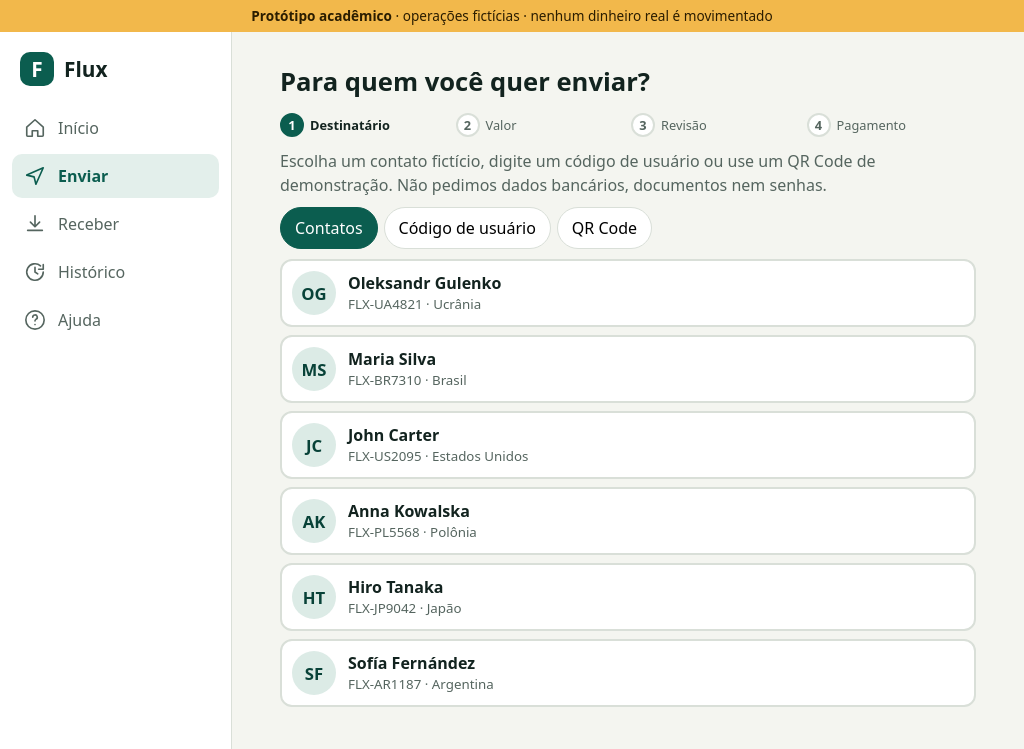
Test: identificação do destinatário sem dados bancários › mostra erro para código inválido
Click the button "Código de usuário": (467,228) x1=384 y1=208 x2=551 y2=250
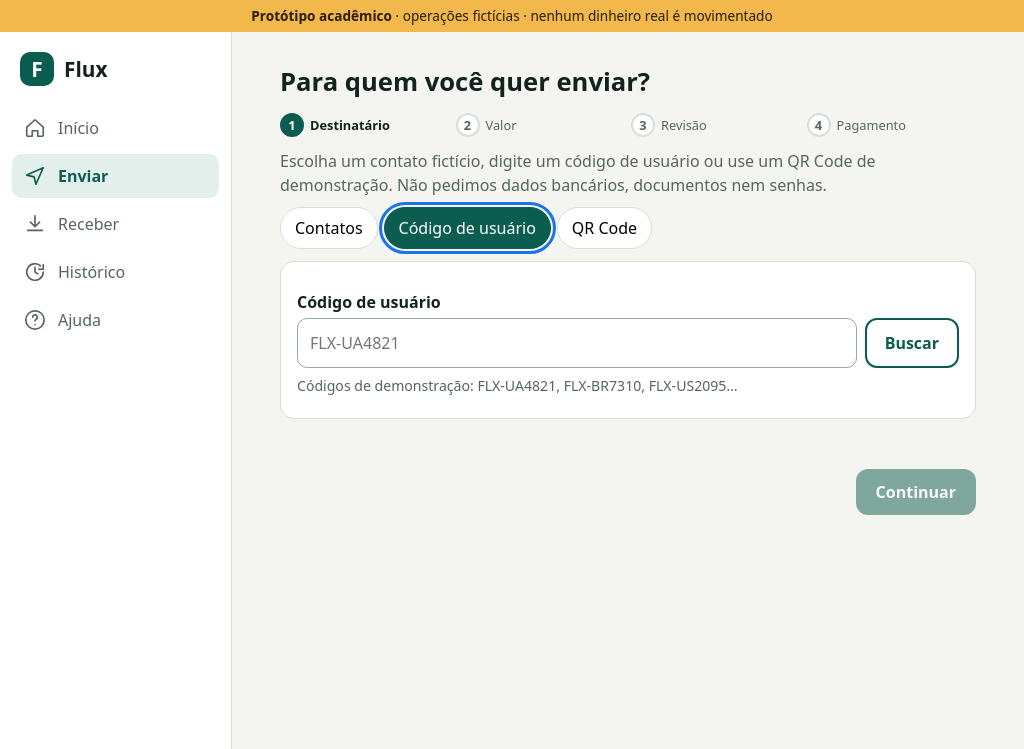
In the field labelled "Código de usuário": (577,344) x1=297 y1=318 x2=857 y2=368, type "0001-123456"
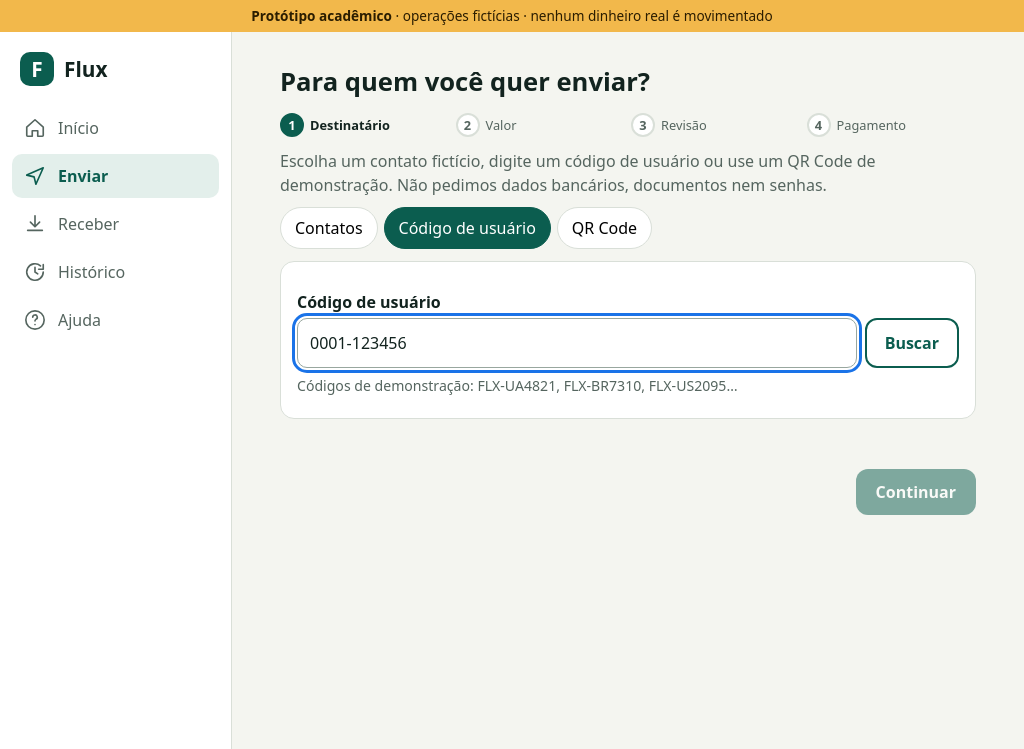
Click the button "Buscar": (912,344) x1=865 y1=318 x2=959 y2=368
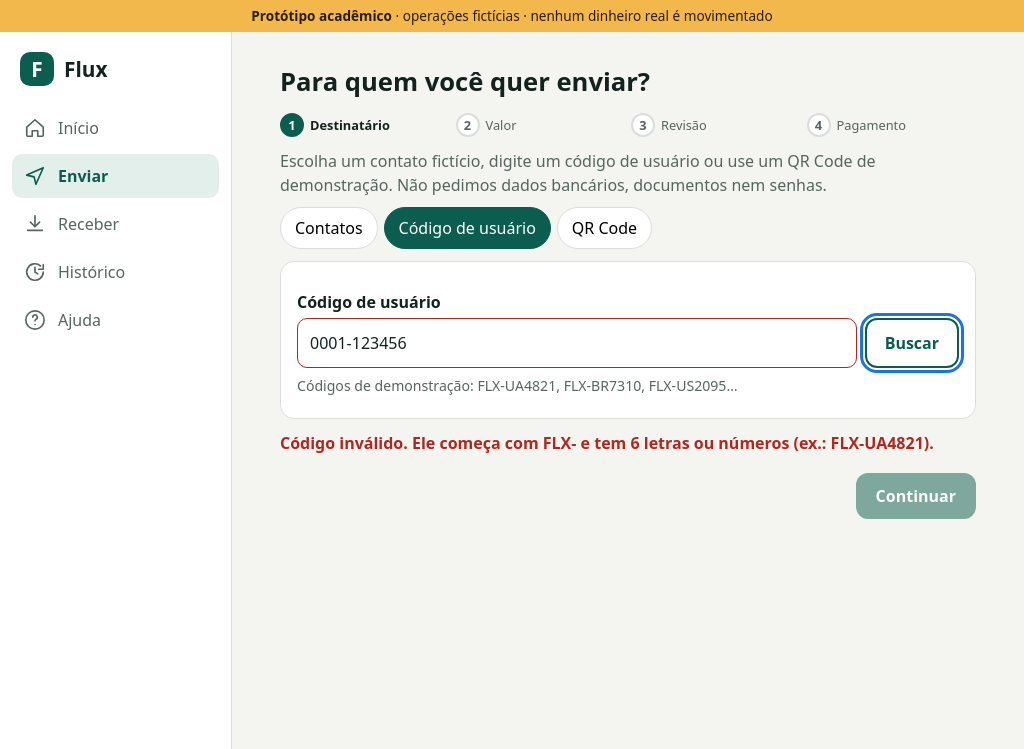
Check: the button "Continuar" is disabled, box x1=856 y1=473 x2=976 y2=519
Check: the message shows "Código inválido", box x1=280 y1=432 x2=934 y2=454
